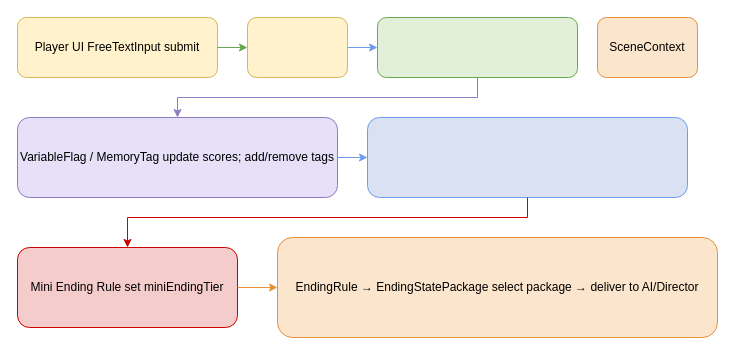
The diagram is 735 pixels wide and 355 high, and some of its shapes have lost their labels. Here are the shapes that lost their labels. From the top down, the centre of each, then its label:
pixel 297 47: AIPromptRule
pixel 477 47: AI Engine returns JSON
pixel 527 157: DialogueCondition evaluate → nextDialogueId / events
